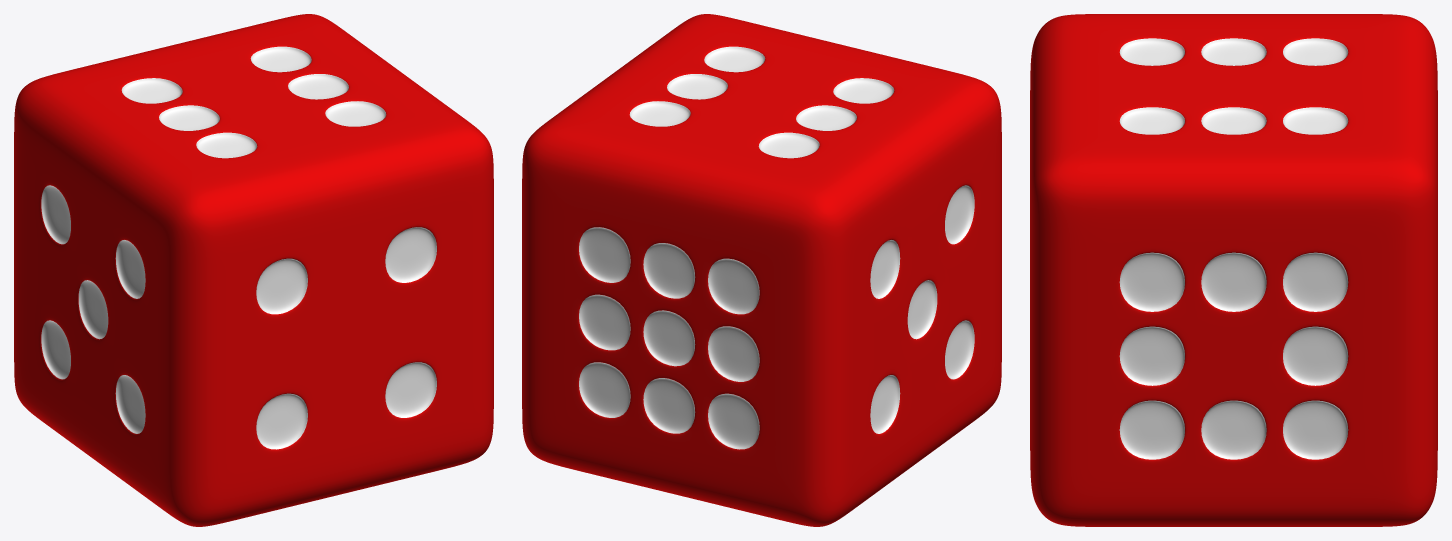
File: Dice3DWith8and9.glb
The picture shows the model from 3 angles, left to right: view 1: azimuth 30°, elevation 25°; view 2: azimuth 150°, elevation 25°; view 3: azimuth 270°, elevation 25°; orthographic projection. The views are drawn at different scales.
Visible parts, largest first — view 1: Cube; view 2: Cube; view 3: Cube.
Part boxes in pixels (x1,y1,x2,y2): Cube: (14,14,493,526); Cube: (522,14,1001,526); Cube: (1030,14,1437,526).
Size of the model in its own units: 2 by 2 by 2.
